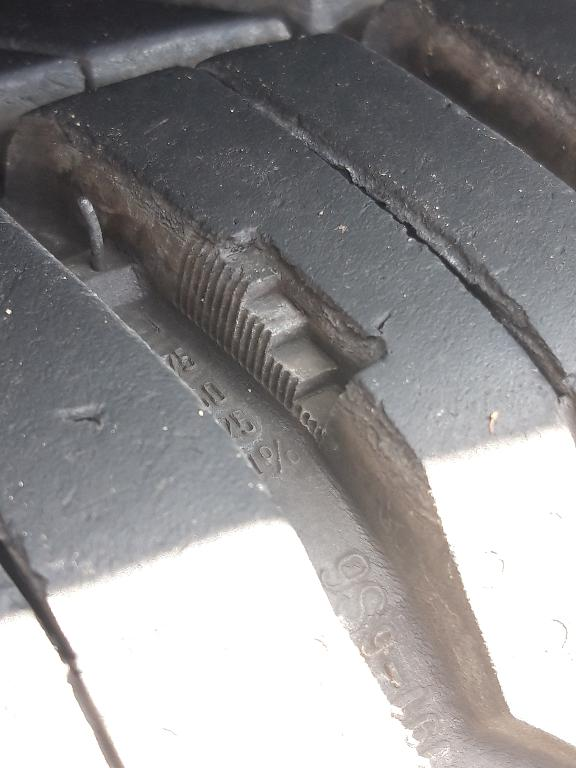temoin:90: (166, 205, 405, 466)
